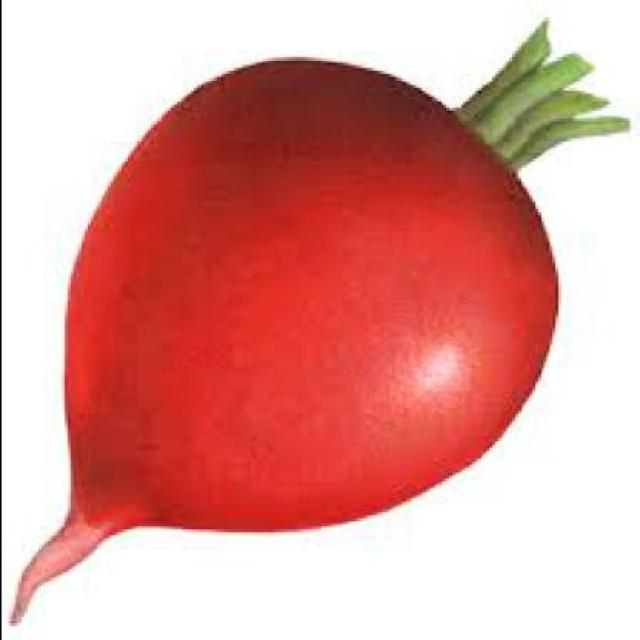BIODEGRADABLE: (9, 23, 634, 626)
